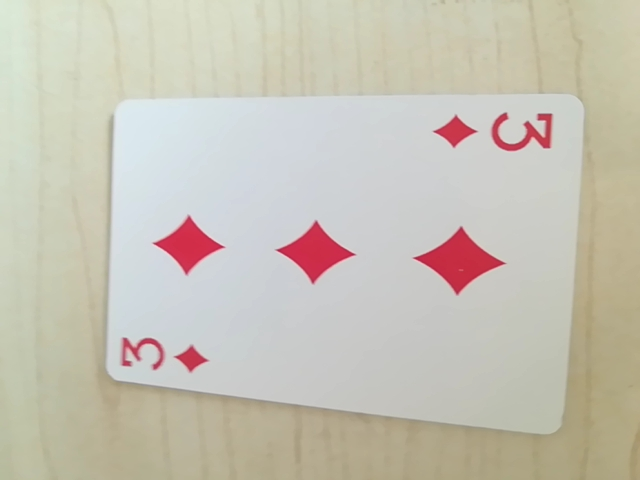fk 3: (434, 105, 557, 158), (115, 326, 217, 382)
